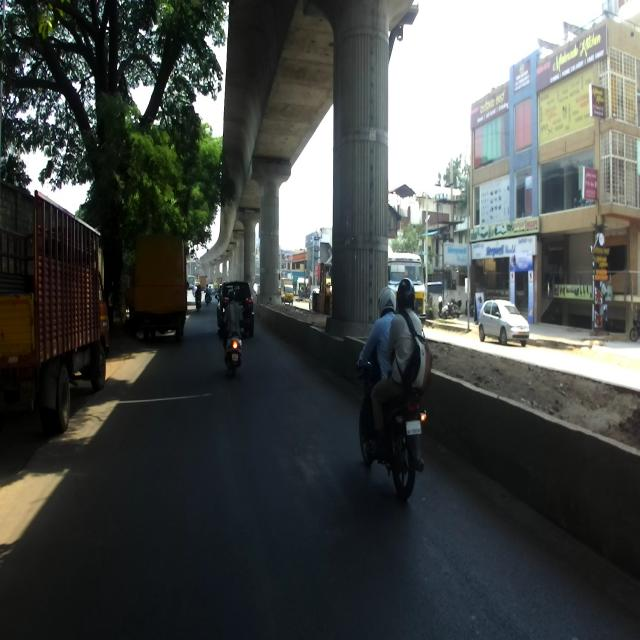car: (476, 296, 532, 349), (214, 278, 254, 337)
motorcycle: (357, 350, 427, 504)
scooter: (222, 308, 242, 374)
